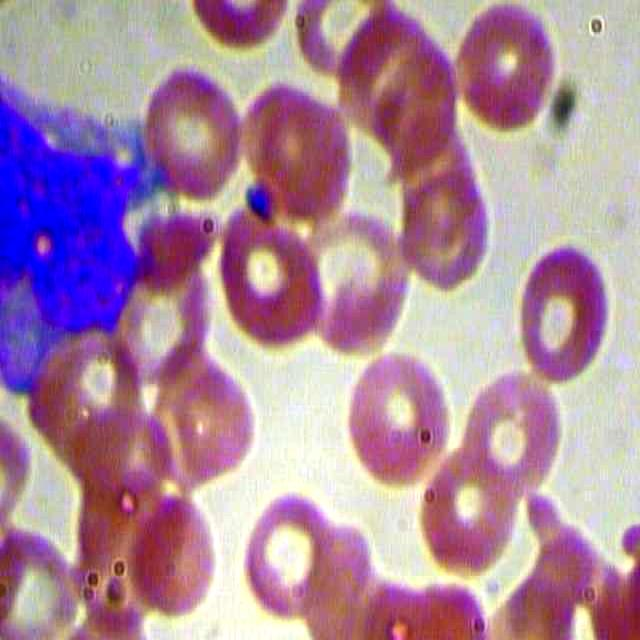RBC: (212, 199, 326, 345), (340, 348, 453, 495), (509, 236, 614, 388), (448, 1, 563, 136), (239, 485, 344, 628), (123, 483, 228, 625), (137, 59, 242, 201), (458, 366, 562, 498), (415, 442, 519, 574)
WBC: (1, 80, 176, 405)
